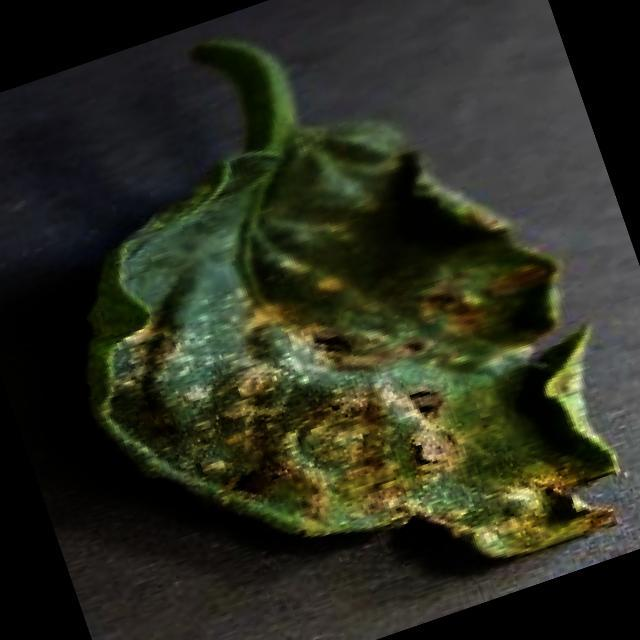Tomato bacterial spot leaf: (4, 37, 640, 640)
